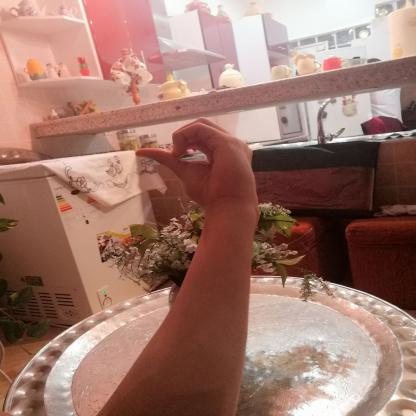WAW: (128, 113, 272, 221)
